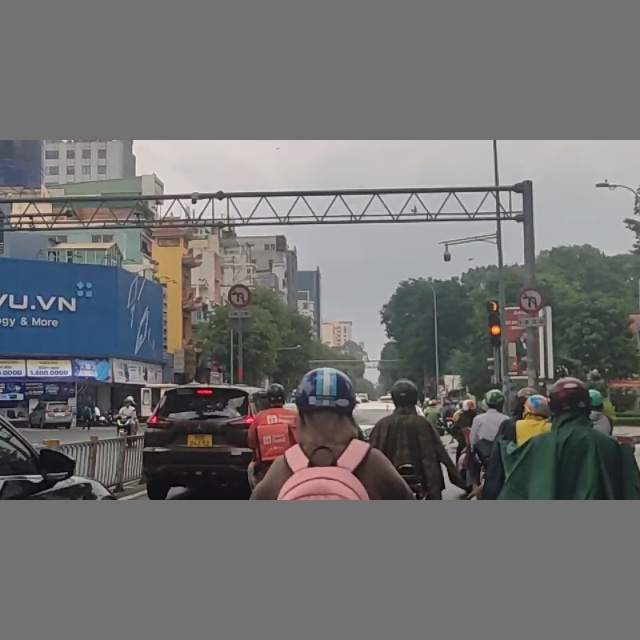P.124c: (229, 283, 251, 306), (520, 289, 542, 311)
